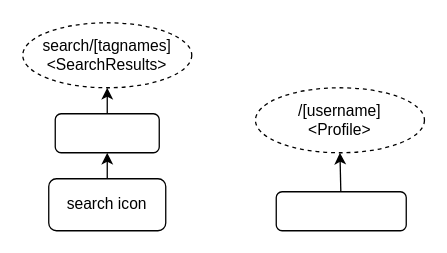
Image size: 447x253. Some labels were removed from this diagram. The centre of each missing label's shape, as x and y in pixels:
"Profile pic icon" goes at (340,210).
"search bar" goes at (106,132).
